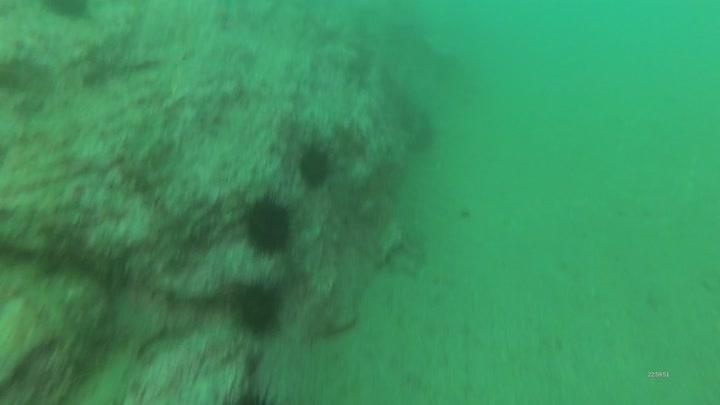echinus: (238, 190, 298, 259), (230, 279, 285, 337), (295, 141, 335, 190), (38, 0, 94, 24)
